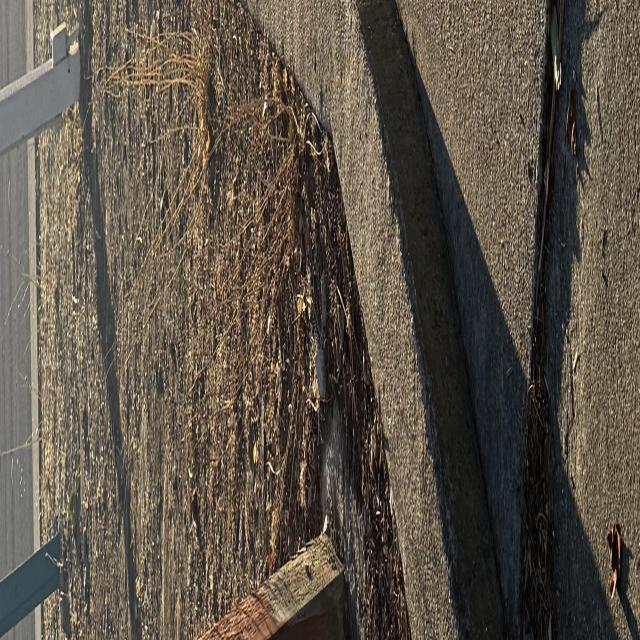hole: (367, 44, 507, 640)
